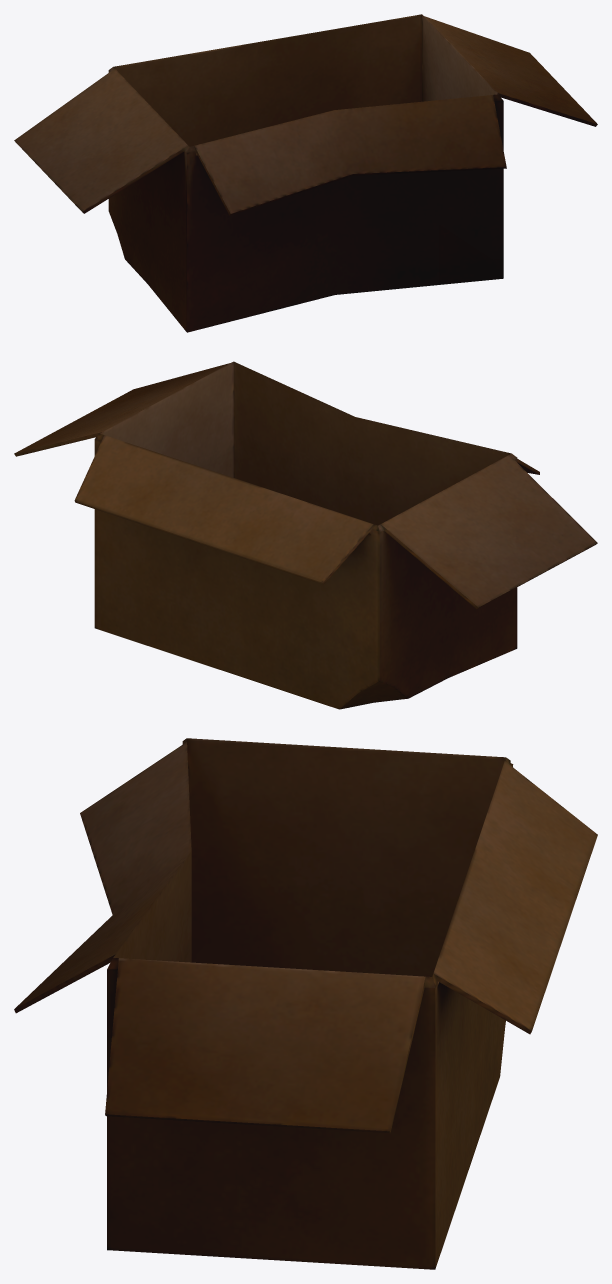
File: G2_DM_cartons_2.gltf
3 renders of one model, top to bottom at view 1: azimuth 30°, elevation 25°; view 2: azimuth 150°, elevation 25°; view 3: azimuth 270°, elevation 25°, orthographic. The views are drawn at different scales.
Visible parts, largest first — view 1: carton.001; view 2: carton.001; view 3: carton.001.
Boxes of the visible parts, x1,y1,x2,y2 form: carton.001: (14,14,597,332); carton.001: (14,361,597,709); carton.001: (14,738,597,1269).
Bounding box in the file's own units: 0.7047 × 0.2483 × 0.4528.
1 material, 1 textured.
